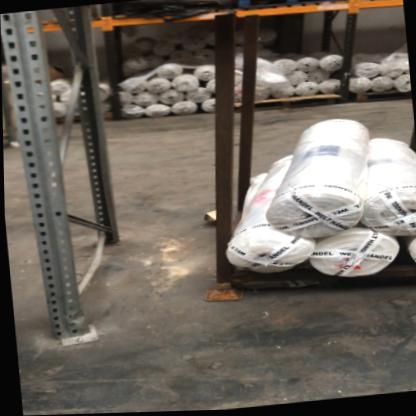vertical_damage: (44, 302, 103, 351)
